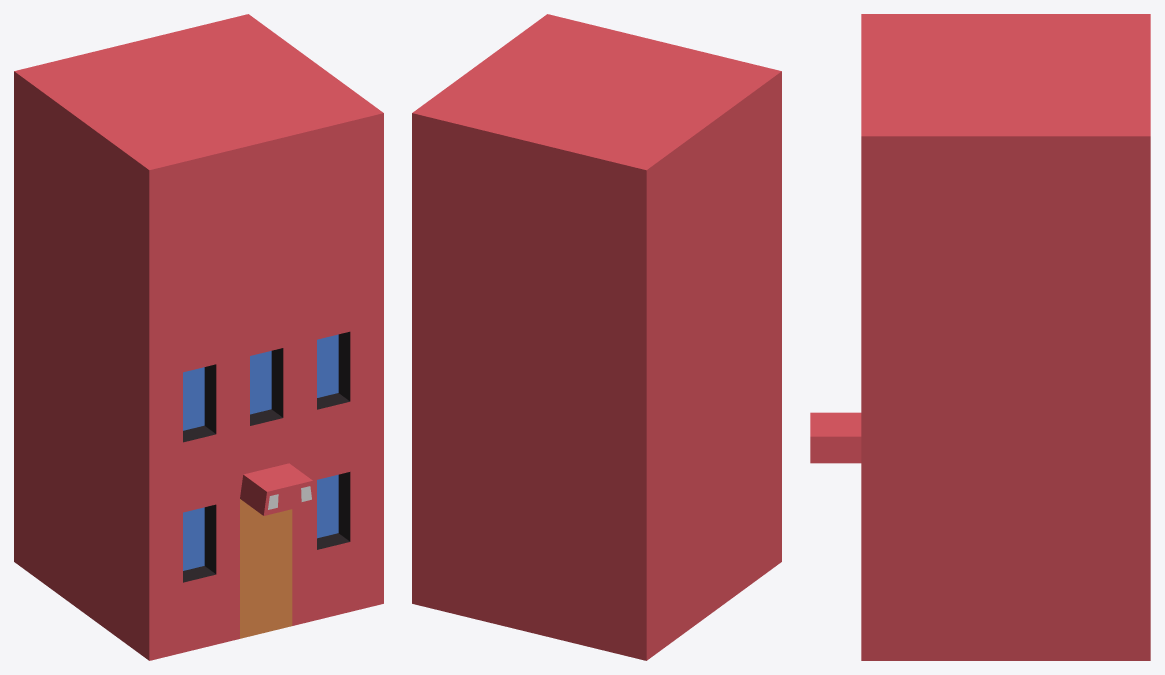
Rendered from house.fbx.
3 renders of one model, left to right at view 1: azimuth 30°, elevation 25°; view 2: azimuth 150°, elevation 25°; view 3: azimuth 270°, elevation 25°, orthographic. The views are drawn at different scales.
Parts seen in each view (by area): view 1: Cube; view 2: Cube; view 3: Cube.
Part boxes in pixels (<box>): Cube: <box>14,14,383,660</box>; Cube: <box>412,14,781,660</box>; Cube: <box>810,14,1150,660</box>.
Size of the model in its own units: 1000 by 2000 by 1176.
